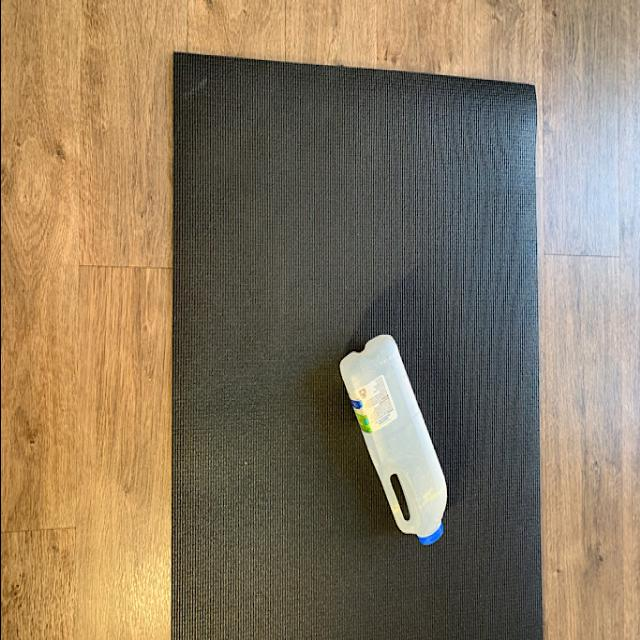HDPEM: (335, 328, 449, 552)
